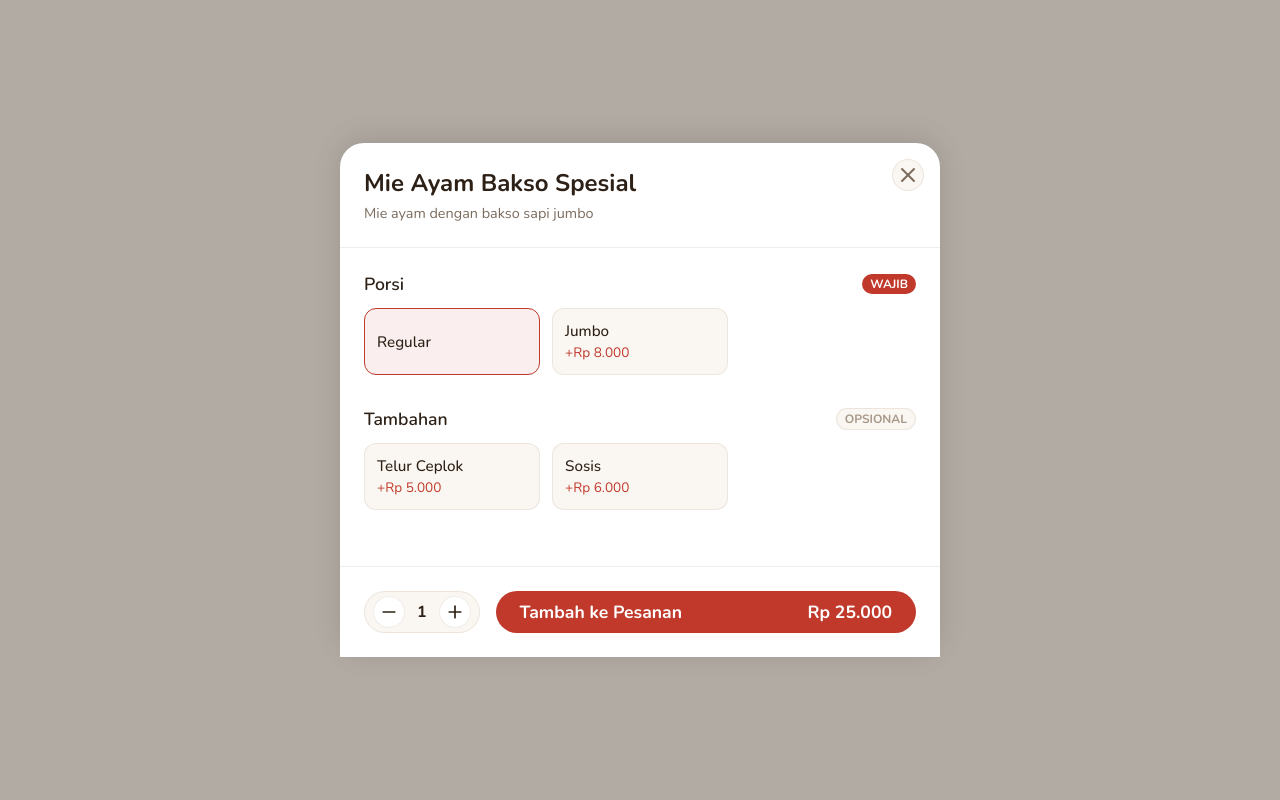
Test: ProductCustomizer › increments quantity when plus is clicked
Click the 3rd button at {"x": 455, "y": 612}, box top-left (439, 596), bottom-right (471, 628)
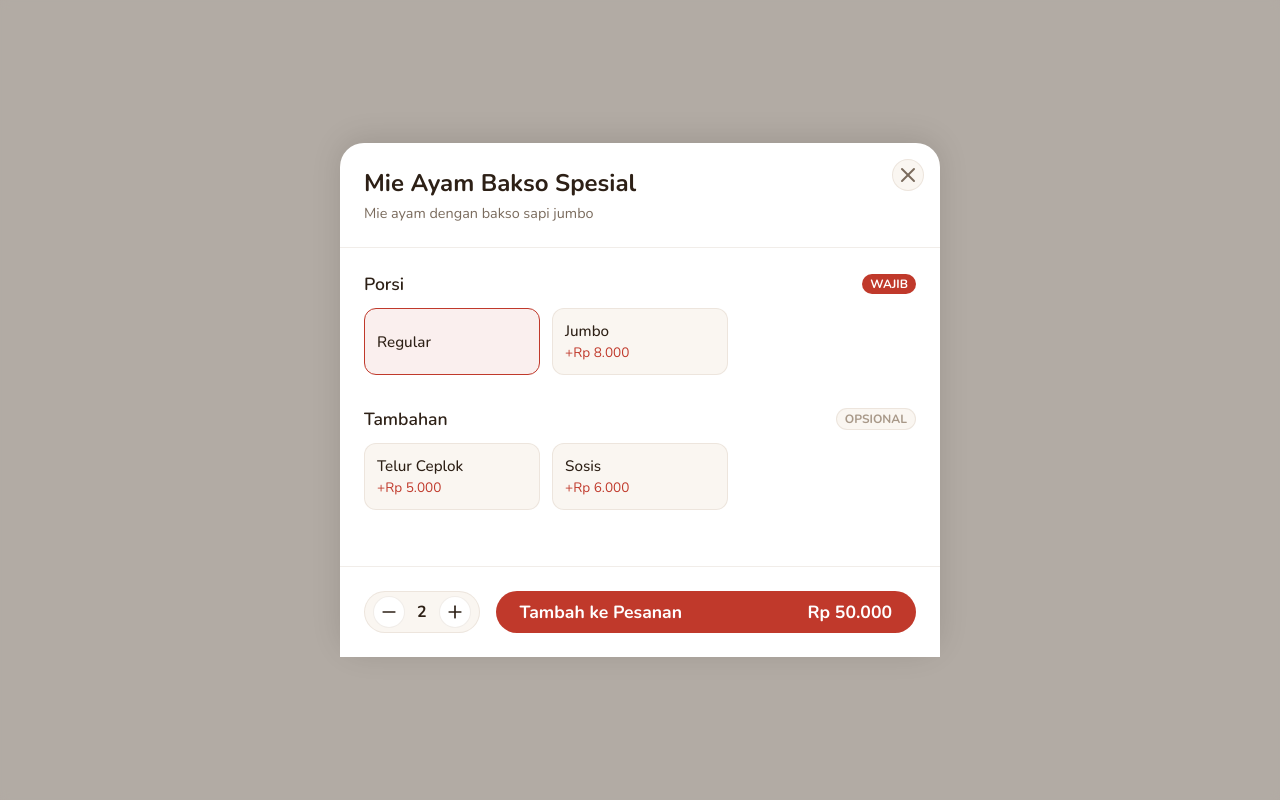
Result: the element showing "2" is shown at top-left (364, 591), bottom-right (480, 633)
